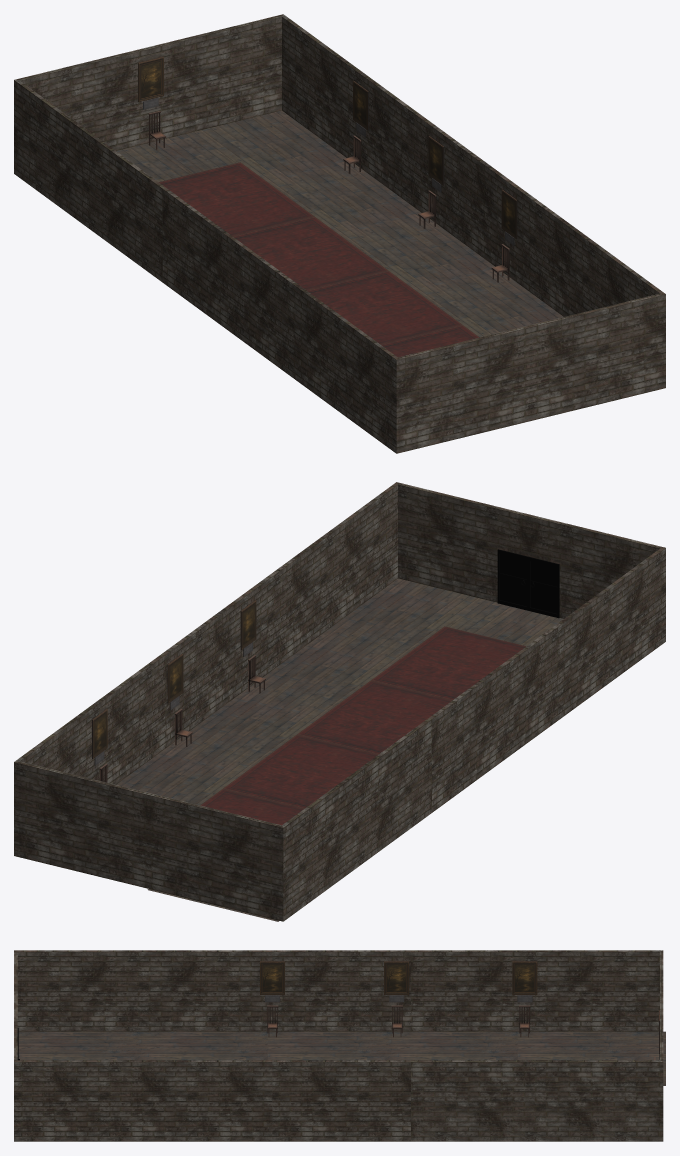
File: TestMap.obj
The picture shows the model from 3 angles, top to bottom: view 1: azimuth 30°, elevation 25°; view 2: azimuth 150°, elevation 25°; view 3: azimuth 270°, elevation 25°; orthographic projection. The views are drawn at different scales.
Visible parts, largest first — view 1: Map01 FixRoom04 EV_Wall01, Map01 FixRoom02 EV_Wall07, Map01 EV_Wall06 FixRoom04, Map01 EV_Wall01 FixRoom02, Map01 FixRoom05 EV_Floor06, Map01 FixRoom05 EV_Floor08, Map01 EV_Wall01, Map01 EV_Wall08, Map01 EV_Carpet04, Map01 EV_Carpet02, Map01 EV_Carpet03, Map01 FixRoom05 EV_Floor03 (+6 smaller); view 2: Map01 EV_Wall01 FixRoom02, Map01 EV_Wall06 FixRoom04, Map01 FixRoom02 EV_Wall07, Map01 FixRoom04 EV_Wall01, Map01 FixRoom05 EV_Floor03, Map01 FixRoom05 EV_Floor06, Map01 EV_Wall01, Map01 EV_Wall08, Map01 EV_Carpet04, Map01 EV_Carpet03, Map01 EV_Carpet05, Map01 EV_Carpet02 (+6 smaller); view 3: Map01 EV_Wall06 FixRoom04, Map01 FixRoom02 EV_Wall07, Map01 FixRoom04 EV_Wall01, Map01 EV_Wall01 FixRoom02, Map01 EV_Wall08, Map01 EV_Wall01, Map01 FixRoom05 EV_Floor05, Map01 FixRoom05 EV_Floor04, Map01 EV_Floor07 FixRoom05, EV_Picture06 Map01, Map01 EV_Picture07, Map01 EV_Picture08.
Boxes of the visible parts, <box> form: Map01 FixRoom04 EV_Wall01: <box>244,247,531,453</box>; Map01 FixRoom02 EV_Wall07: <box>149,14,431,212</box>; Map01 EV_Wall06 FixRoom04: <box>510,182,665,420</box>; Map01 EV_Wall01 FixRoom02: <box>14,47,165,282</box>; Map01 FixRoom05 EV_Floor06: <box>282,172,512,299</box>; Map01 FixRoom05 EV_Floor08: <box>151,110,365,192</box>; Map01 EV_Wall01: <box>162,188,247,341</box>; Map01 EV_Wall08: <box>428,123,513,276</box>; Map01 EV_Carpet04: <box>307,270,462,344</box>; Map01 EV_Carpet02: <box>159,162,314,236</box>; Map01 EV_Carpet03: <box>233,216,387,290</box>; Map01 FixRoom05 EV_Floor03: <box>429,279,563,337</box>; Map01 EV_Wall01 FixRoom02: <box>148,718,431,921</box>; Map01 EV_Wall06 FixRoom04: <box>244,482,530,687</box>; Map01 FixRoom02 EV_Wall07: <box>14,653,166,888</box>; Map01 FixRoom04 EV_Wall01: <box>510,515,665,752</box>; Map01 FixRoom05 EV_Floor03: <box>251,578,527,706</box>; Map01 FixRoom05 EV_Floor06: <box>116,686,334,805</box>; Map01 EV_Wall01: <box>429,658,513,812</box>; Map01 EV_Wall08: <box>163,593,247,747</box>; Map01 EV_Carpet04: <box>297,680,452,754</box>; Map01 EV_Carpet03: <box>223,734,377,808</box>; Map01 EV_Carpet05: <box>371,626,525,700</box>; Map01 EV_Carpet02: <box>200,789,303,825</box>; Map01 EV_Wall06 FixRoom04: <box>14,1006,272,1141</box>; Map01 FixRoom02 EV_Wall07: <box>411,1006,663,1141</box>; Map01 FixRoom04 EV_Wall01: <box>14,950,272,1031</box>; Map01 EV_Wall01 FixRoom02: <box>411,950,663,1031</box>; Map01 EV_Wall08: <box>272,1060,410,1141</box>; Map01 EV_Wall01: <box>272,950,410,1031</box>; Map01 FixRoom05 EV_Floor05: <box>267,1031,517,1060</box>; Map01 FixRoom05 EV_Floor04: <box>18,1031,267,1060</box>; Map01 EV_Floor07 FixRoom05: <box>517,1031,665,1085</box>; EV_Picture06 Map01: <box>512,961,537,994</box>; Map01 EV_Picture07: <box>384,961,409,994</box>; Map01 EV_Picture08: <box>260,961,284,994</box>.
Bounding box in the file's own units: 1051 × 350 × 2594.
